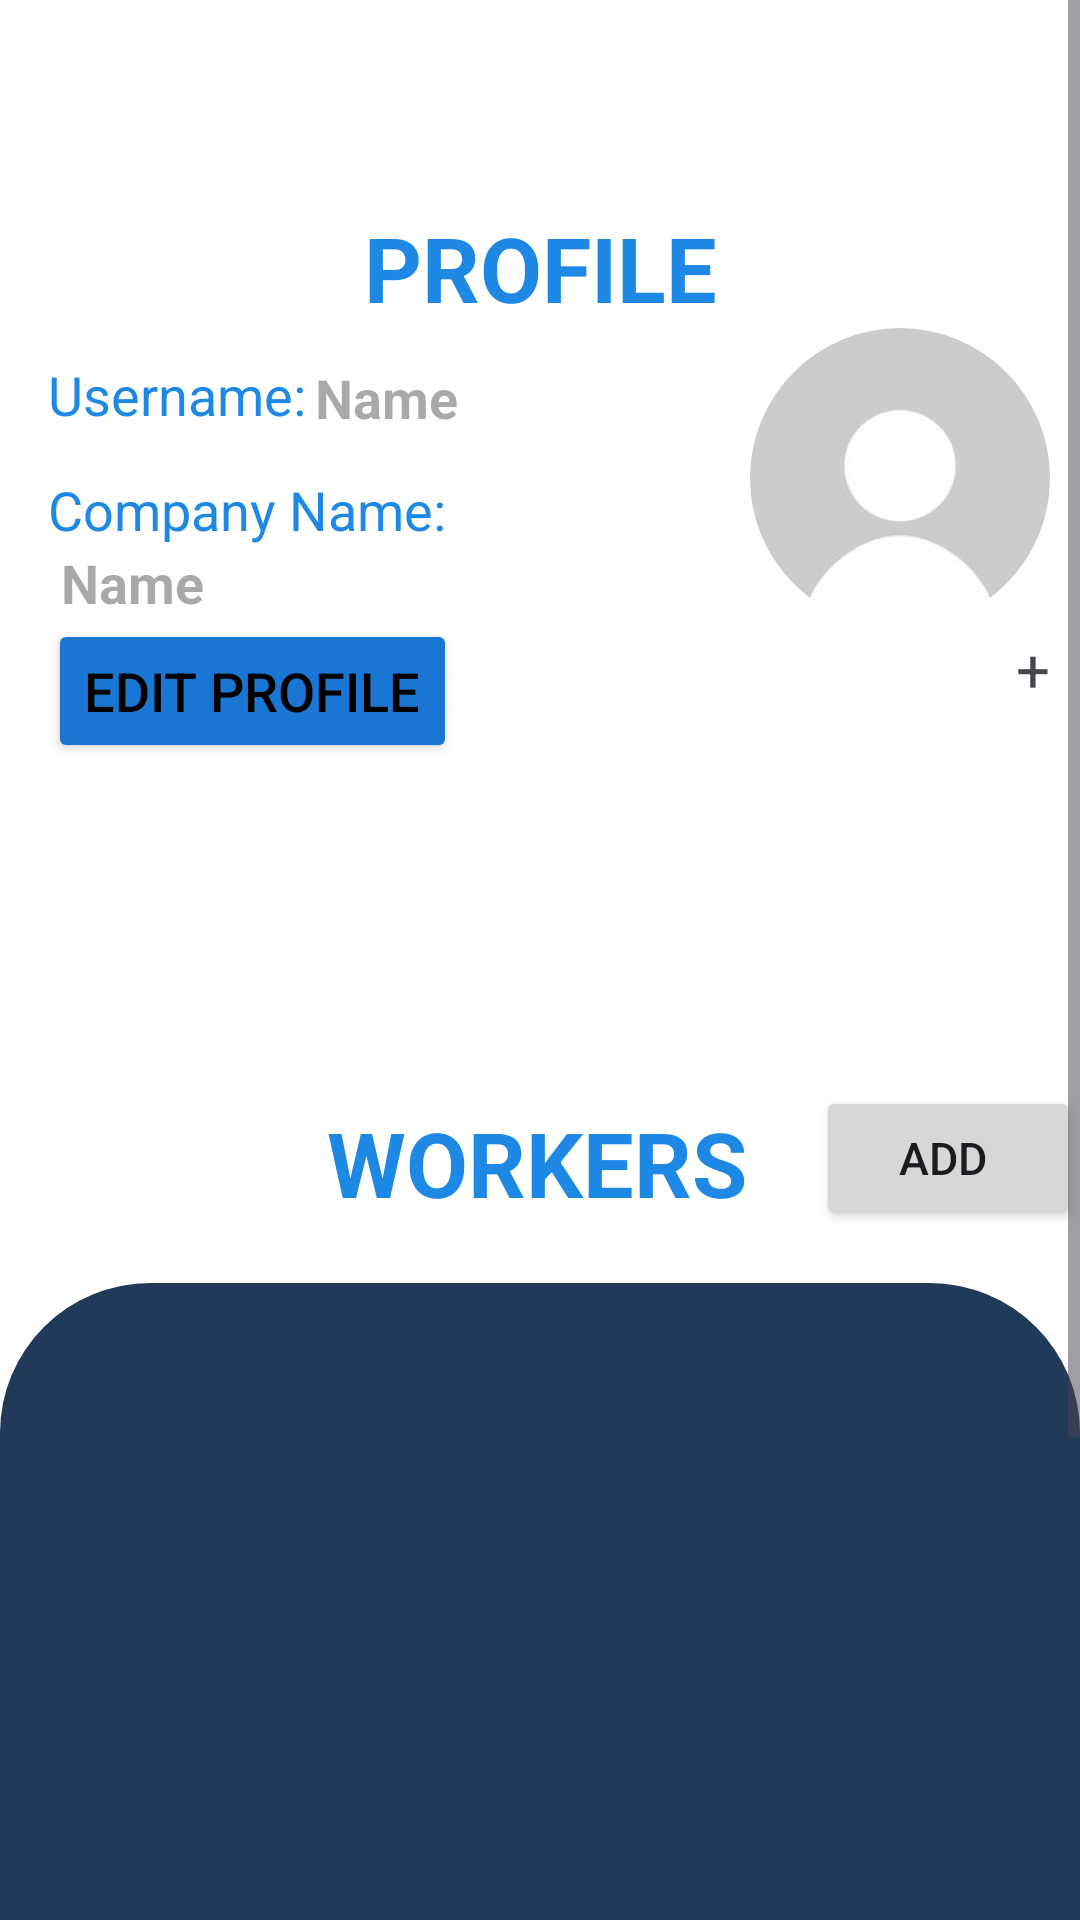

Where icons sit on this 1080x1920 app screen, as [x1, y1, x2, y2]:
personpfp: [750, 328, 1050, 597]
